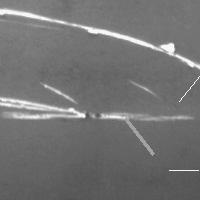scratches: (1, 7, 199, 69), (2, 80, 128, 120), (1, 108, 194, 123), (120, 113, 158, 159), (174, 49, 200, 106), (164, 165, 200, 175)
